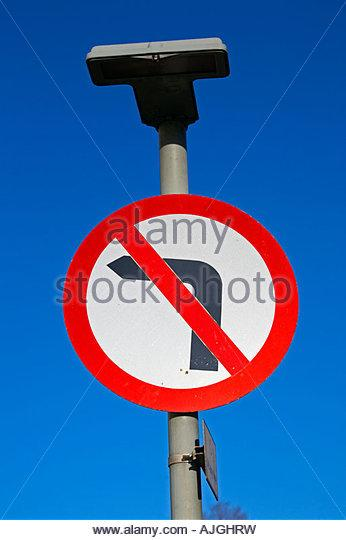no_left_turn: (62, 194, 298, 412)
